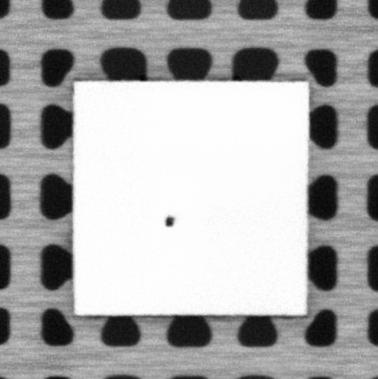DIE_INK: (163, 213, 175, 228)
